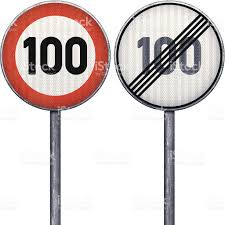Speed_limit_100km: (1, 1, 111, 112)
